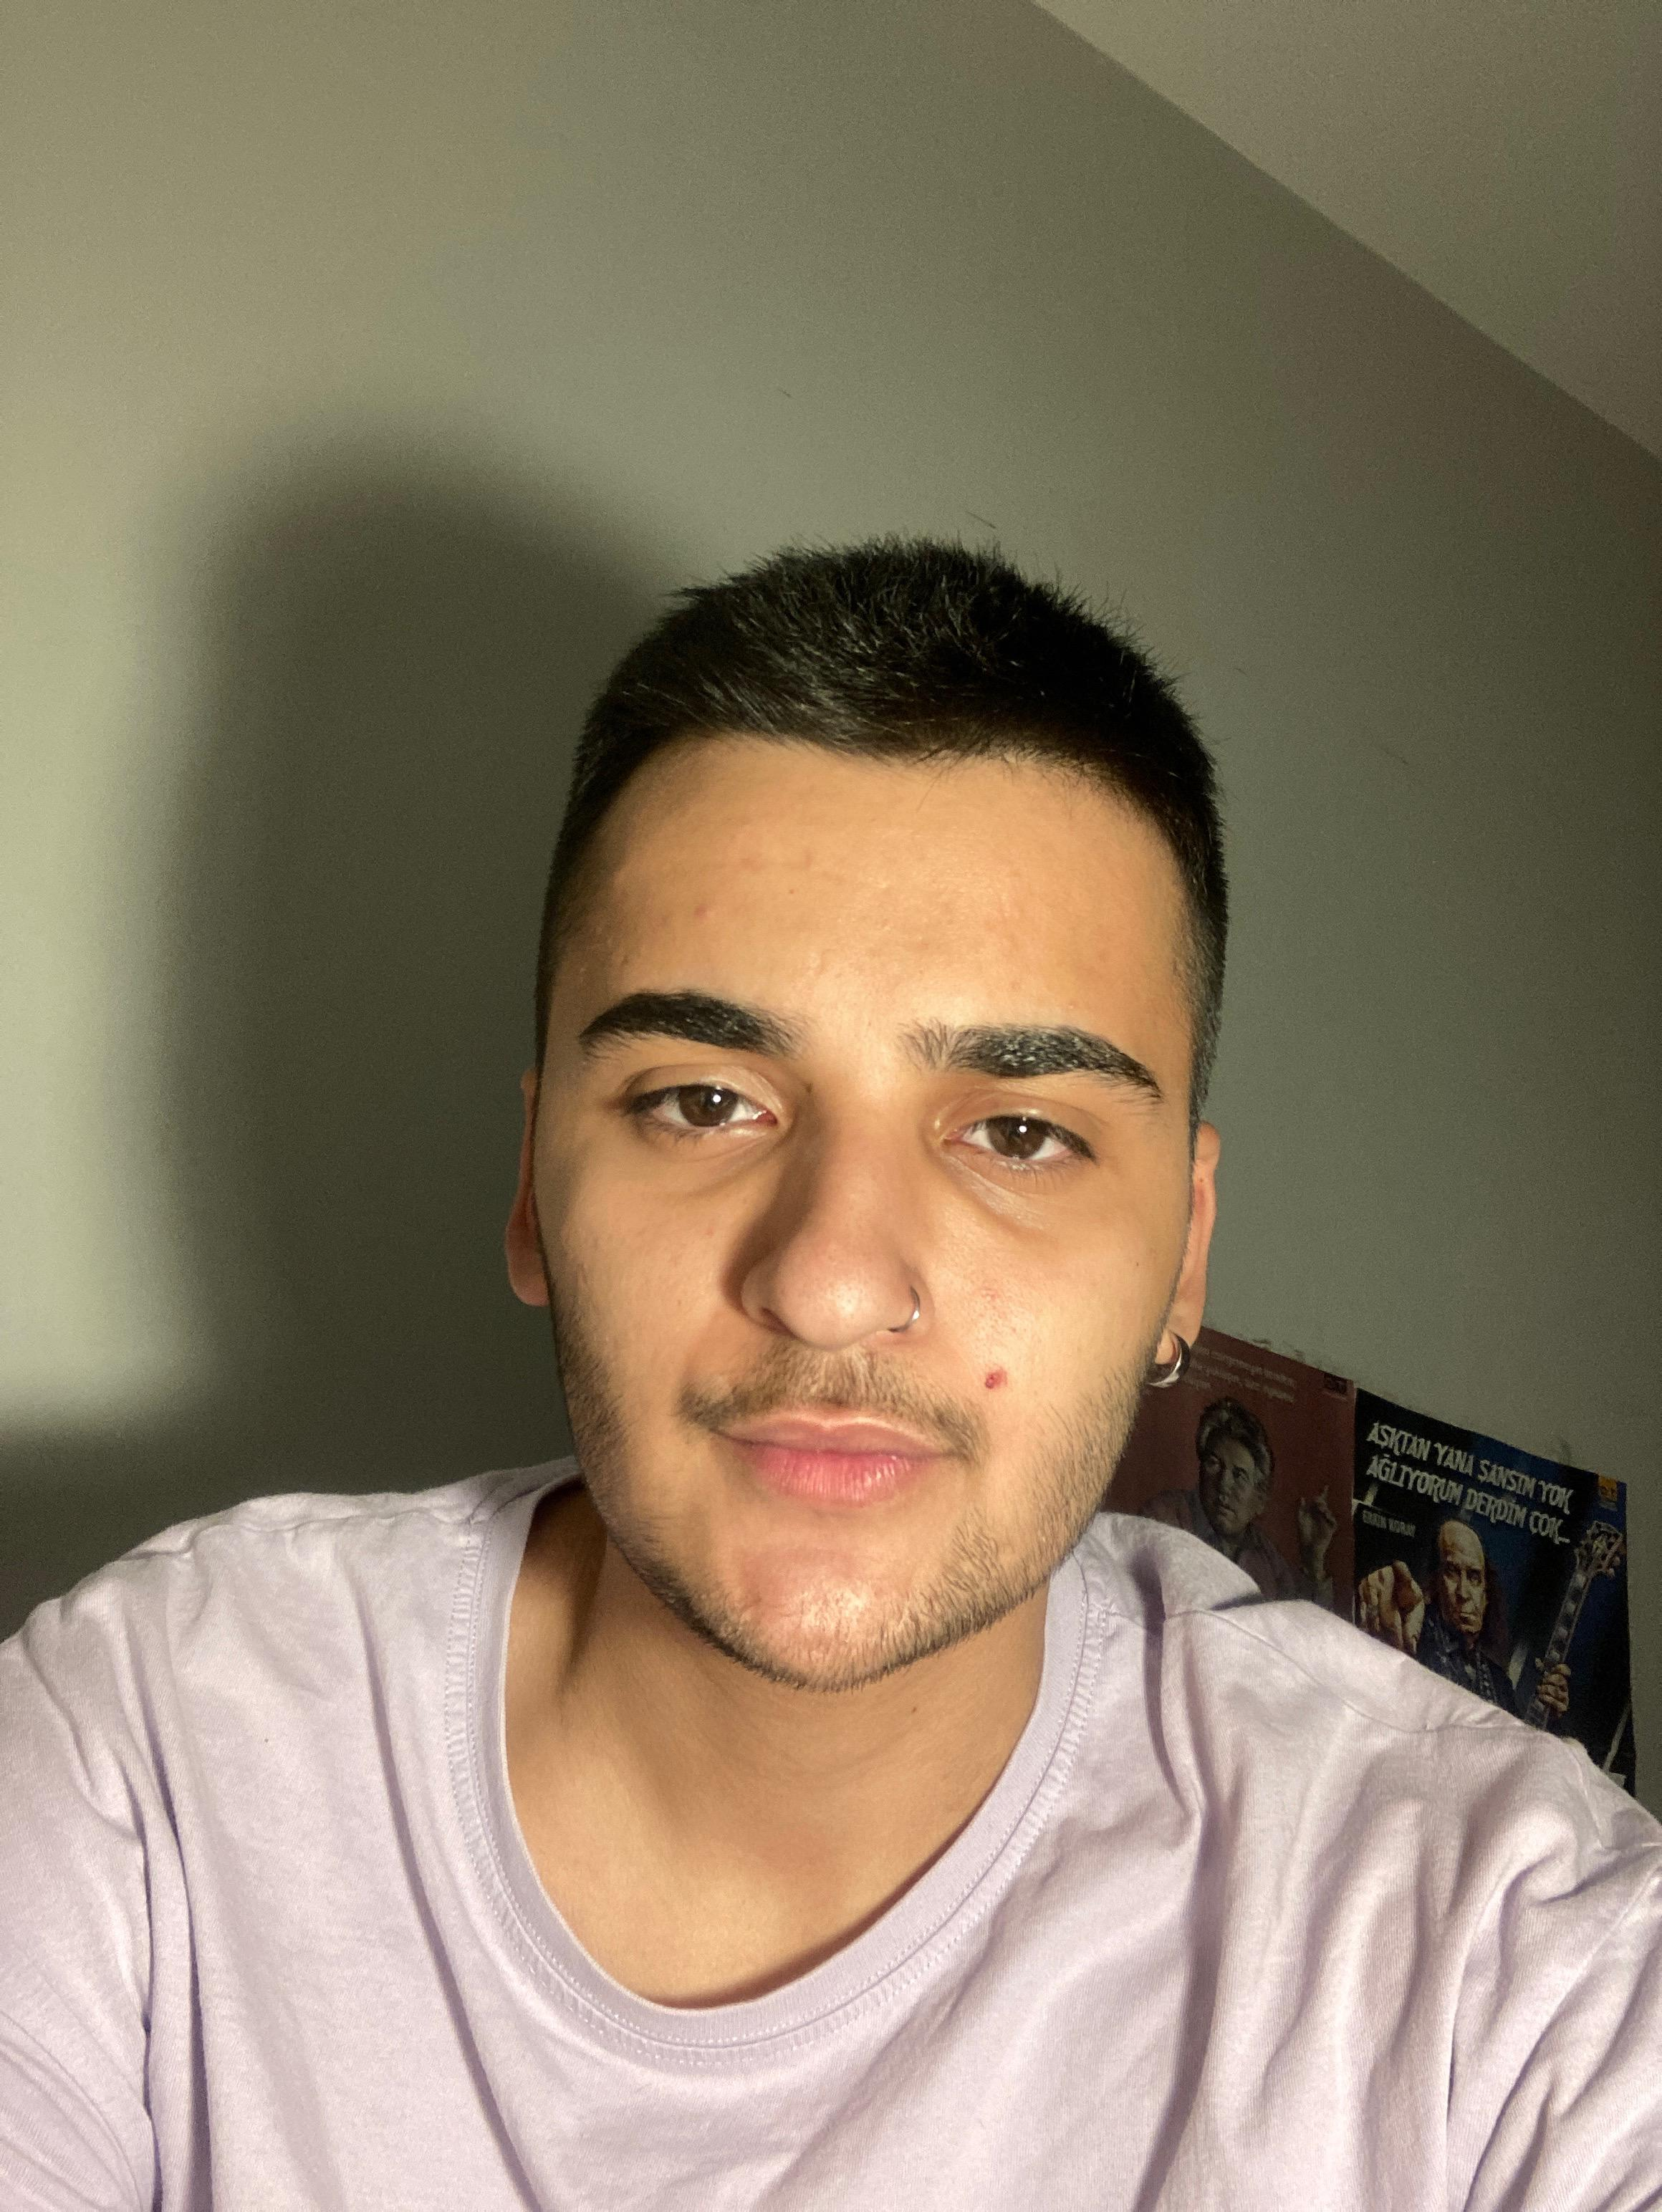Acne: (979, 1360, 1014, 1395), (691, 903, 718, 924)
Blackheads: (787, 1266, 864, 1325)
Englarged-Pores: (934, 1257, 1037, 1355)
